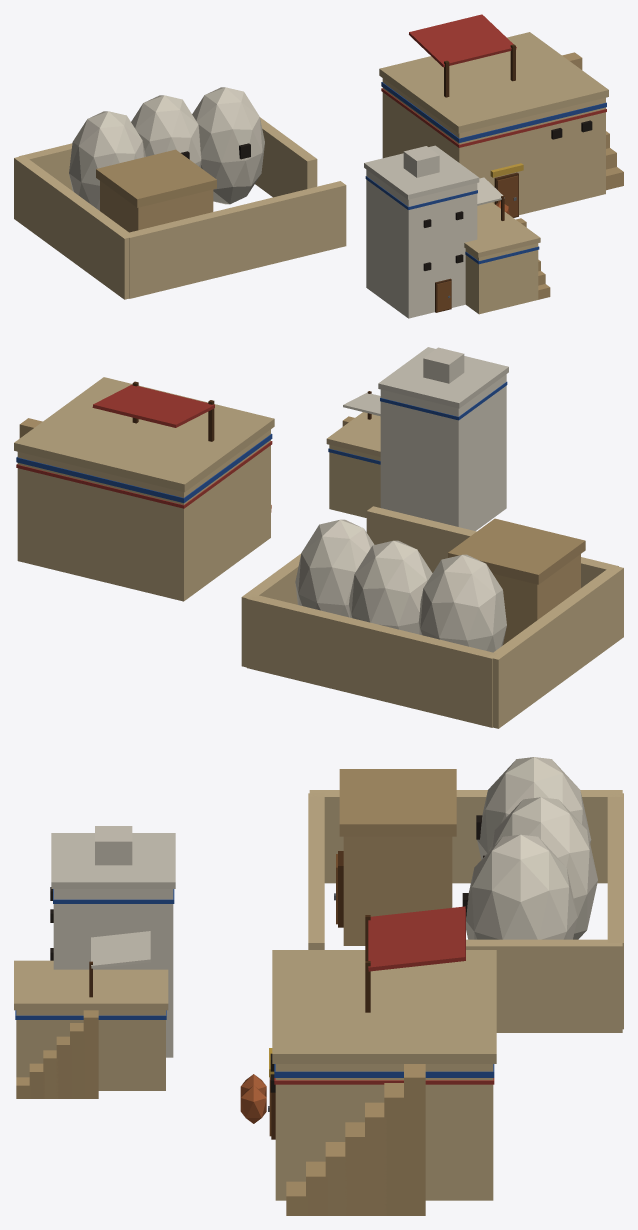
Rendered from gnoll_compound_broken.glb.
3 views of the same model, one above another, from view 1: azimuth 30°, elevation 25°; view 2: azimuth 150°, elevation 25°; view 3: azimuth 270°, elevation 25° (orthographic). The views are drawn at different scales.
Parts seen in each view (by area): view 1: gnoll_compound_piece7, gnoll_compound_piece5, gnoll_compound_piece13, gnoll_compound_piece8, gnoll_compound_piece4, gnoll_compound_piece0, gnoll_compound_piece2, gnoll_compound_piece11, gnoll_compound_piece1, gnoll_compound_piece10, gnoll_compound_piece3, gnoll_compound_piece12 (+1 smaller); view 2: gnoll_compound_piece4, gnoll_compound_piece0, gnoll_compound_piece1, gnoll_compound_piece2, gnoll_compound_piece13, gnoll_compound_piece10, gnoll_compound_piece7, gnoll_compound_piece11, gnoll_compound_piece5, gnoll_compound_piece9, gnoll_compound_piece6, gnoll_compound_piece3 (+2 smaller); view 3: gnoll_compound_piece2, gnoll_compound_piece7, gnoll_compound_piece4, gnoll_compound_piece13, gnoll_compound_piece0, gnoll_compound_piece11, gnoll_compound_piece5, gnoll_compound_piece10, gnoll_compound_piece1, gnoll_compound_piece8, gnoll_compound_piece9, gnoll_compound_piece12 (+1 smaller).
Boxes of the visible parts, x1,y1,x2,y2 form: gnoll_compound_piece7: [374, 153, 550, 318]; gnoll_compound_piece5: [435, 54, 608, 217]; gnoll_compound_piece13: [68, 159, 216, 299]; gnoll_compound_piece8: [152, 181, 344, 293]; gnoll_compound_piece4: [68, 87, 289, 204]; gnoll_compound_piece0: [14, 111, 188, 261]; gnoll_compound_piece2: [461, 24, 623, 197]; gnoll_compound_piece11: [406, 14, 492, 149]; gnoll_compound_piece1: [261, 27, 438, 197]; gnoll_compound_piece10: [371, 145, 453, 259]; gnoll_compound_piece3: [335, 109, 443, 248]; gnoll_compound_piece12: [445, 58, 495, 150]; gnoll_compound_piece4: [241, 519, 448, 707]; gnoll_compound_piece0: [410, 541, 565, 728]; gnoll_compound_piece1: [82, 419, 301, 601]; gnoll_compound_piece2: [14, 377, 183, 576]; gnoll_compound_piece13: [464, 518, 623, 679]; gnoll_compound_piece10: [337, 350, 492, 499]; gnoll_compound_piece7: [326, 347, 508, 530]; gnoll_compound_piece11: [92, 398, 249, 530]; gnoll_compound_piece5: [104, 377, 271, 567]; gnoll_compound_piece9: [48, 444, 238, 576]; gnoll_compound_piece6: [234, 429, 474, 529]; gnoll_compound_piece3: [238, 388, 478, 510]; gnoll_compound_piece2: [272, 937, 496, 1215]; gnoll_compound_piece7: [14, 827, 173, 1098]; gnoll_compound_piece4: [462, 769, 623, 1032]; gnoll_compound_piece13: [308, 769, 467, 916]; gnoll_compound_piece0: [405, 757, 623, 912]; gnoll_compound_piece11: [333, 908, 496, 1004]; gnoll_compound_piece5: [240, 934, 381, 1139]; gnoll_compound_piece10: [92, 826, 175, 1029]; gnoll_compound_piece1: [441, 906, 547, 1032]; gnoll_compound_piece8: [308, 846, 374, 949]; gnoll_compound_piece9: [431, 1002, 496, 1033]; gnoll_compound_piece12: [272, 950, 324, 976].
Bounding box in the file's own units: 5.9 × 1.68 × 4.48.
